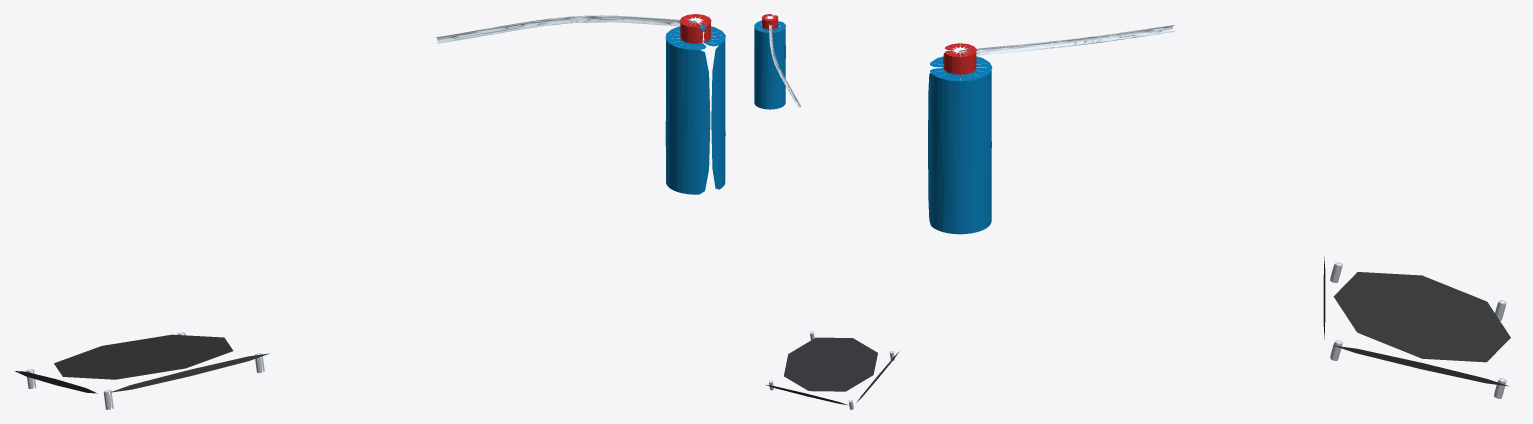
The model's file is driver_drink_footboard.glb.
3 views of the same model, side by side, from view 1: azimuth 30°, elevation 25°; view 2: azimuth 150°, elevation 25°; view 3: azimuth 270°, elevation 25° (orthographic). The views are drawn at different scales.
Visible parts, largest first — view 1: Drink_Bottle_Footboard_Assembly; view 2: Drink_Bottle_Footboard_Assembly; view 3: Drink_Bottle_Footboard_Assembly.
Boxes of the visible parts, box(x1,y1,x2,y2) form: Drink_Bottle_Footboard_Assembly: box(15, 14, 725, 409); Drink_Bottle_Footboard_Assembly: box(754, 14, 899, 409); Drink_Bottle_Footboard_Assembly: box(928, 25, 1510, 398).
Size of the model in its own units: 0.712 by 0.6903 by 0.769.
